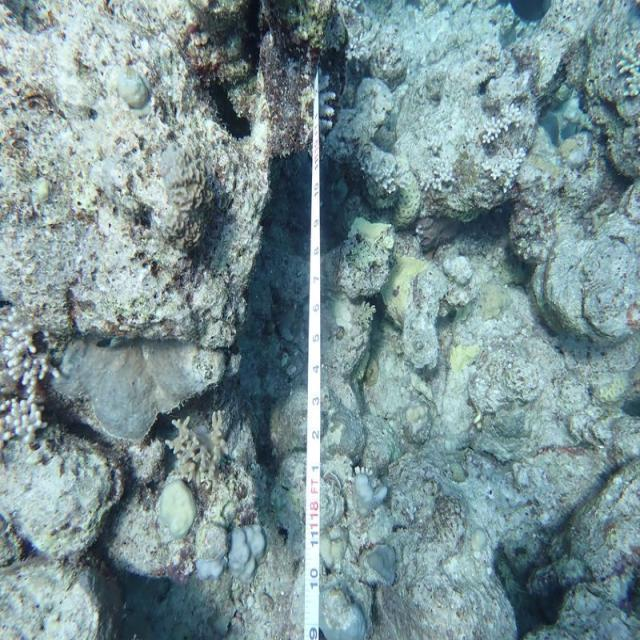Bleached Coral: (0, 319, 57, 474)
